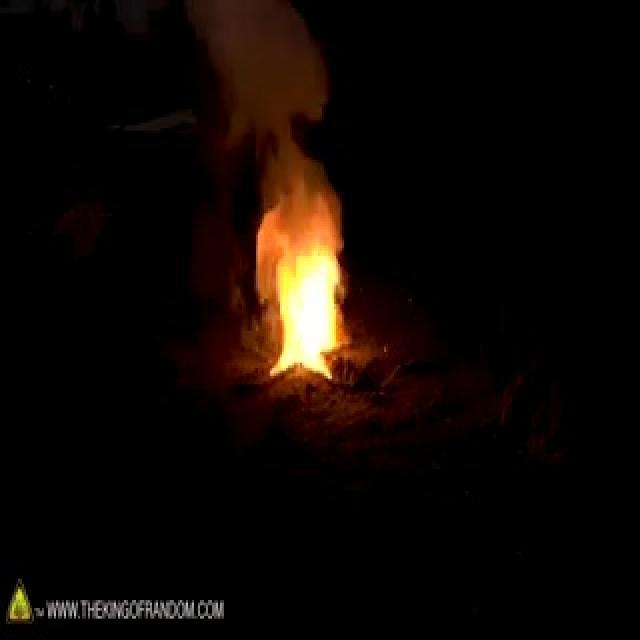fire: (254, 152, 360, 446)
